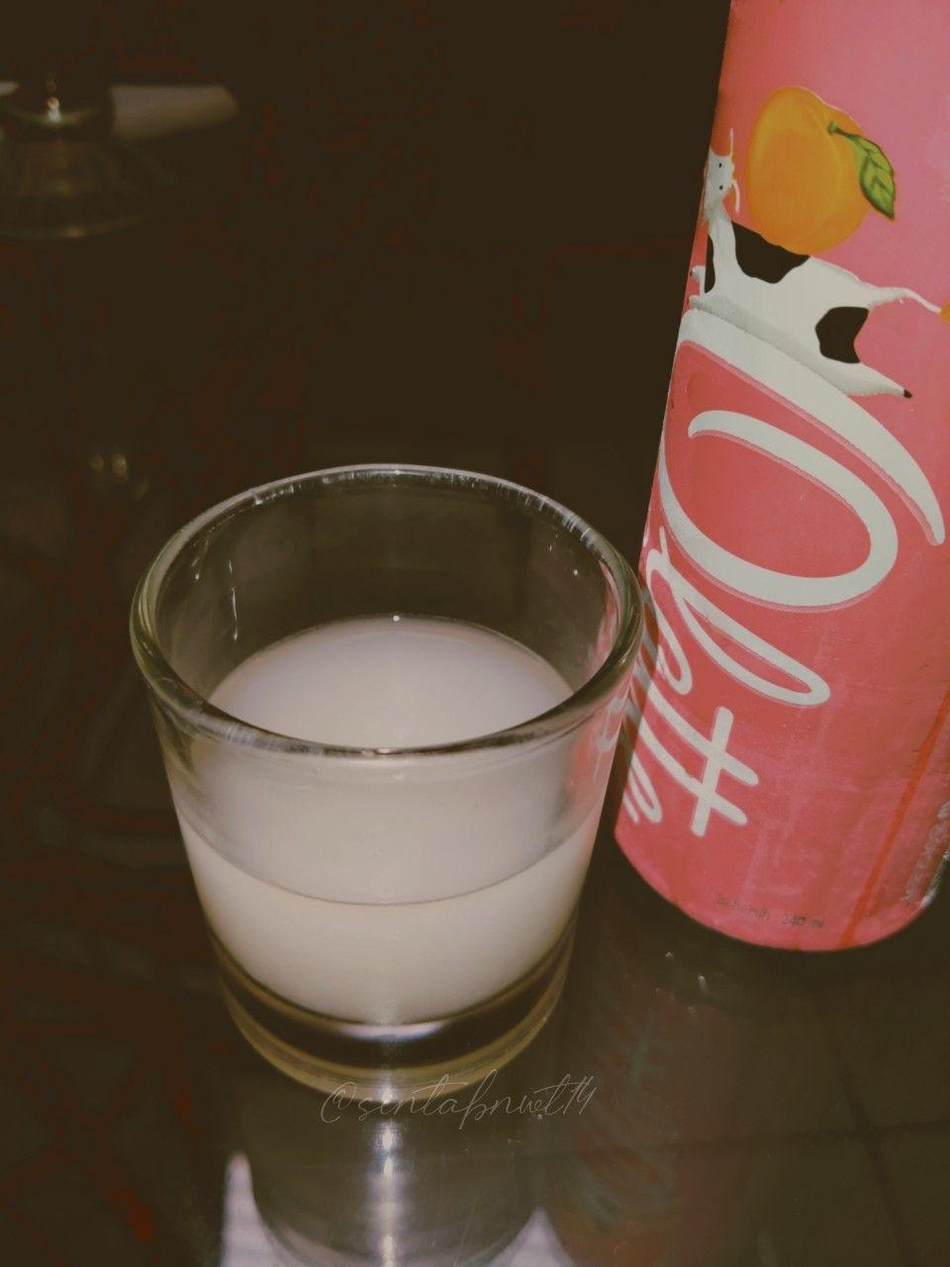produk_susu: (205, 529, 544, 1057)
